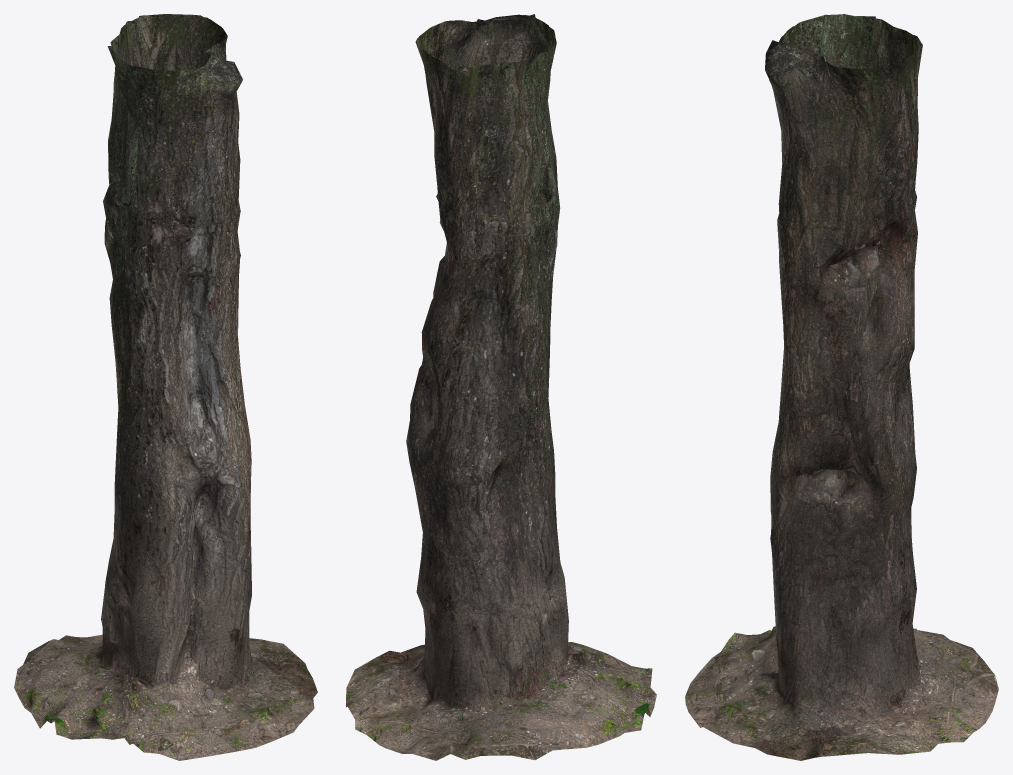
The model's file is PX_Cinnamomum_burmannii_Trunk_01_LOD4.fbx.
3 views of the same model, side by side, from view 1: azimuth 30°, elevation 25°; view 2: azimuth 150°, elevation 25°; view 3: azimuth 270°, elevation 25° (orthographic). The views are drawn at different scales.
Parts seen in each view (by area): view 1: PX_Cinnamomum_burmannii_Trunk_01_LOD4; view 2: PX_Cinnamomum_burmannii_Trunk_01_LOD4; view 3: PX_Cinnamomum_burmannii_Trunk_01_LOD4.
Part boxes in pixels (<box>): PX_Cinnamomum_burmannii_Trunk_01_LOD4: <box>14,14,317,760</box>; PX_Cinnamomum_burmannii_Trunk_01_LOD4: <box>346,14,656,760</box>; PX_Cinnamomum_burmannii_Trunk_01_LOD4: <box>685,14,998,760</box>.
Bounding box in the file's own units: 99.23 × 237 × 101.
